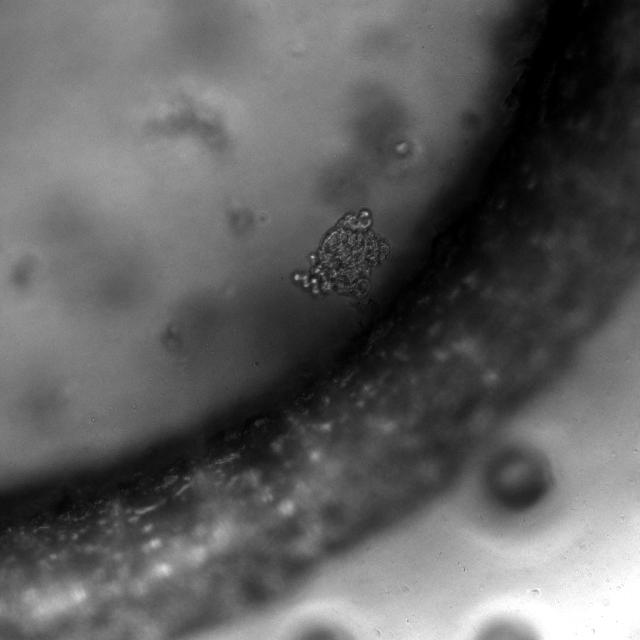organoid: (292, 208, 390, 301)
